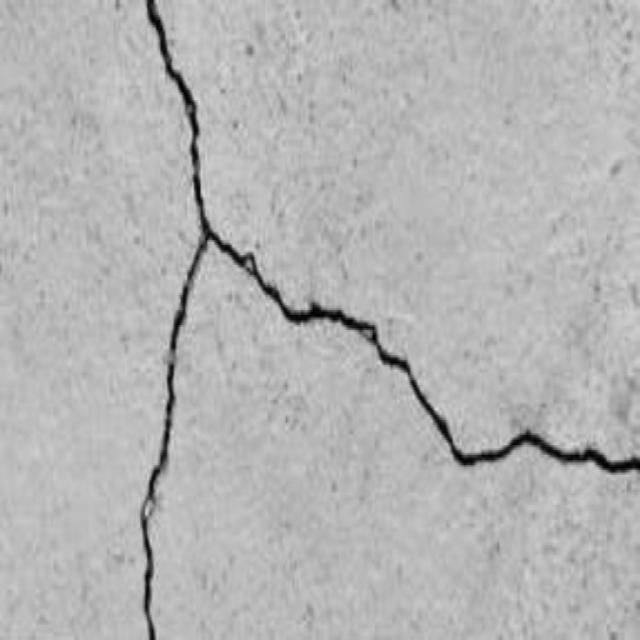SurfaceCrack: (60, 2, 640, 632)
